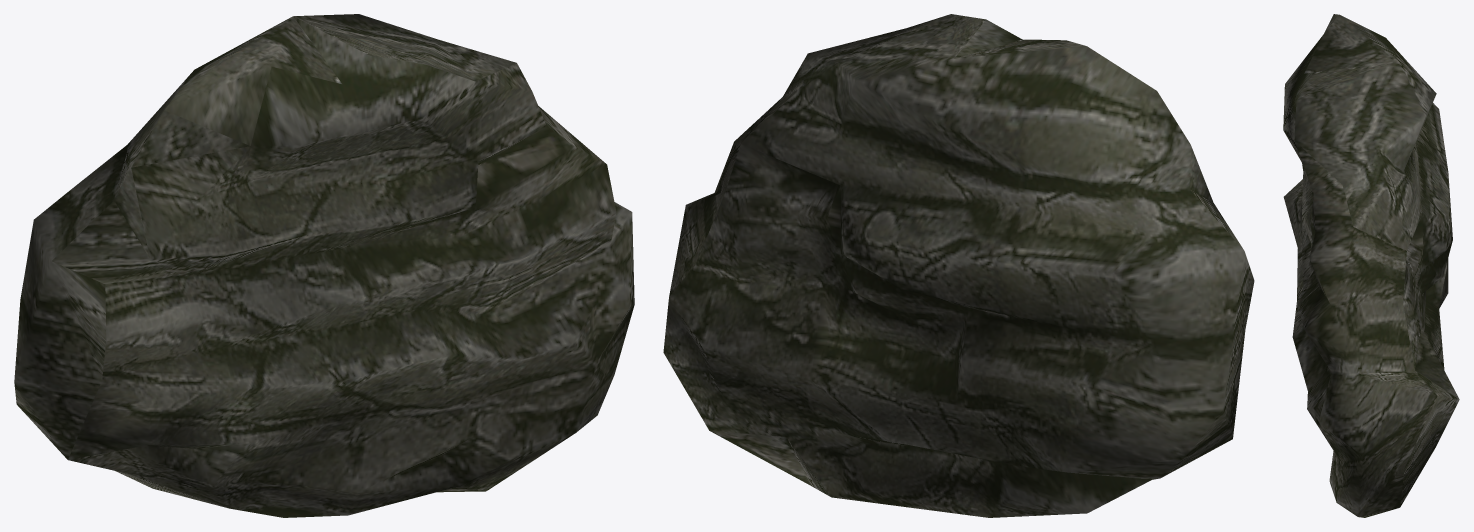
Rendered from d_rock7.FBX.
3 views of the same model, side by side, from view 1: azimuth 30°, elevation 25°; view 2: azimuth 150°, elevation 25°; view 3: azimuth 270°, elevation 25° (orthographic). The views are drawn at different scales.
Visible parts, largest first — view 1: TI_Cliff_02_m; view 2: TI_Cliff_02_m; view 3: TI_Cliff_02_m.
Boxes of the visible parts, x1=… form: TI_Cliff_02_m: x1=14, y1=14, x2=634, y2=517; TI_Cliff_02_m: x1=663, y1=14, x2=1254, y2=517; TI_Cliff_02_m: x1=1283, y1=14, x2=1459, y2=517.
Size of the model in its own units: 1.83 by 1.5 by 0.5993.
